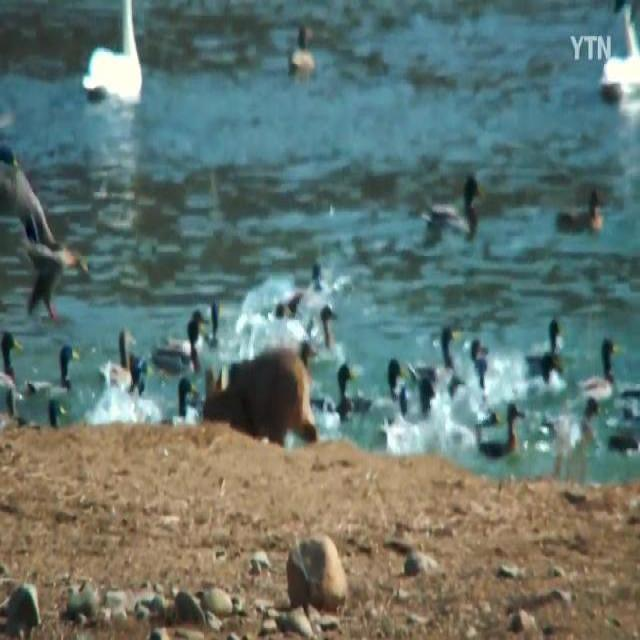deer: (204, 348, 318, 447)
